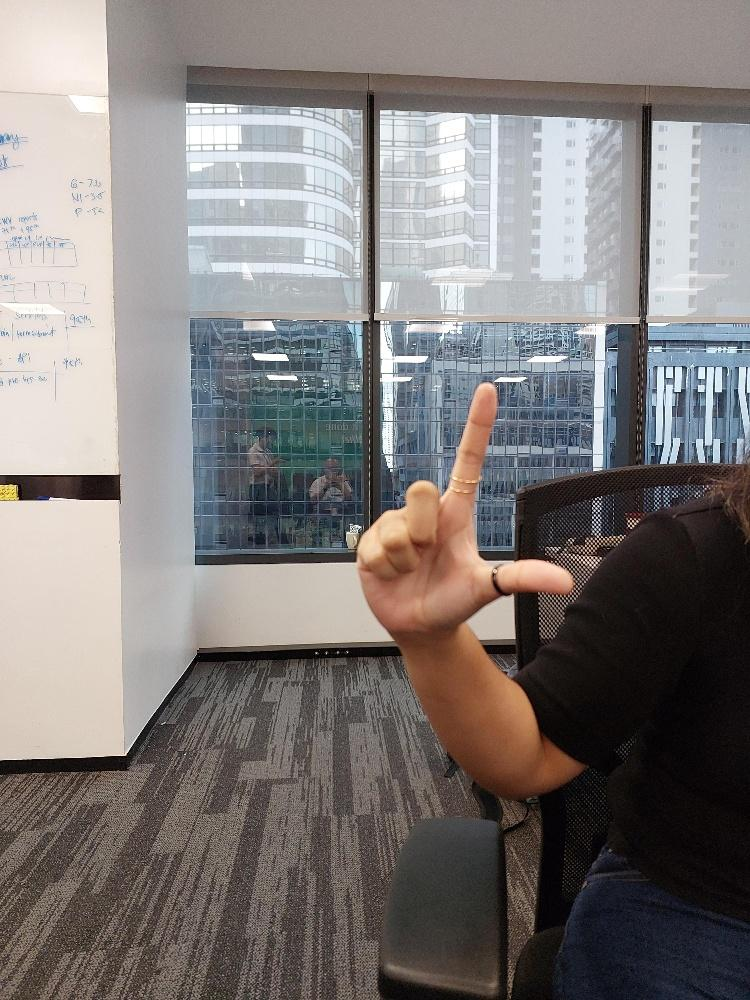l: (353, 378, 576, 645)
